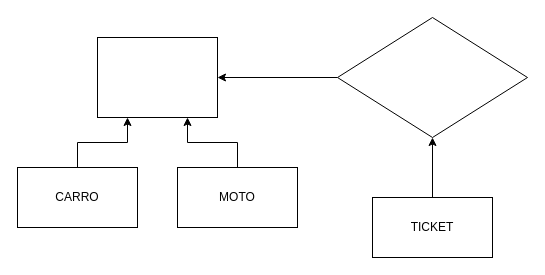
Image size: 545x275. Some labels were removed from this diagram. The centre of each missing label's shape, as x and y in pixels:
"ESTACIONAMIENTO" goes at (x=432, y=77).
"VEHICULO" goes at (x=157, y=77).
